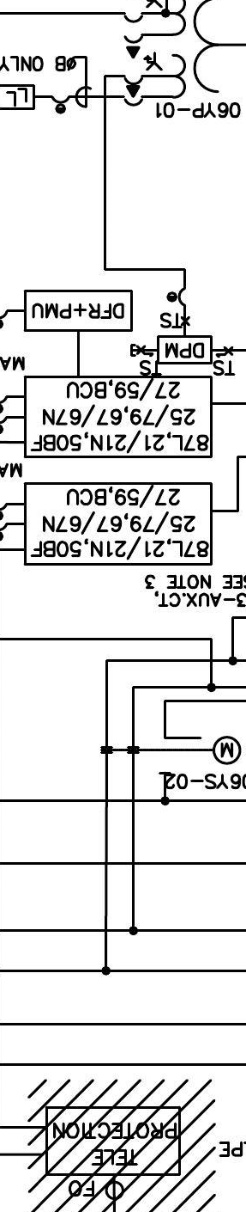115_1way_ds_w_motor: (158, 735, 242, 775)
DPM: (155, 334, 214, 366)
tele_protection: (43, 1104, 183, 1178)
